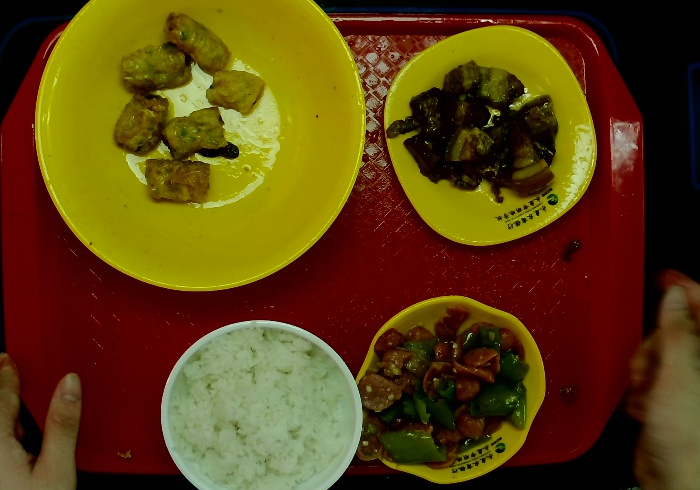YKMZ-Fan_Wan: (156, 313, 366, 490)
YKMZ-Huang_Se_Ao_Bian_Wan: (353, 290, 555, 486)
YKMZ-Huang_Se_Fang_Die: (381, 22, 608, 253)
YKMZ-Huang_Se_Tang_Wan: (28, 1, 368, 303)
